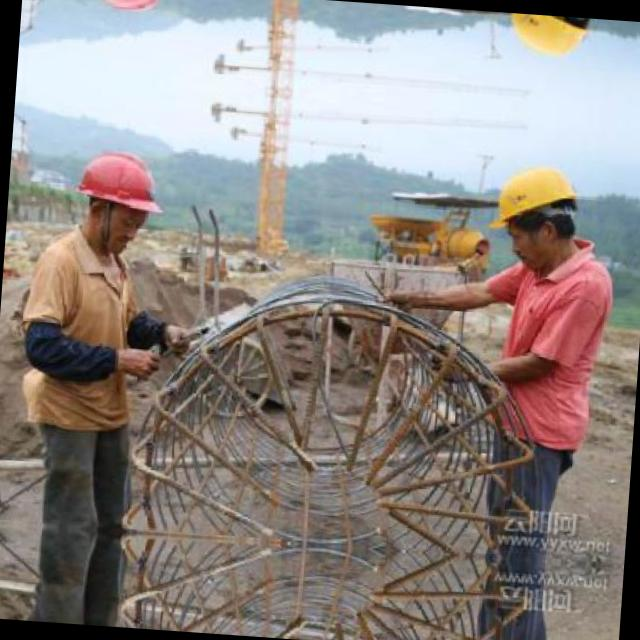helmet: (481, 143, 592, 274), (66, 140, 165, 253), (494, 11, 602, 76), (81, 0, 175, 21)
